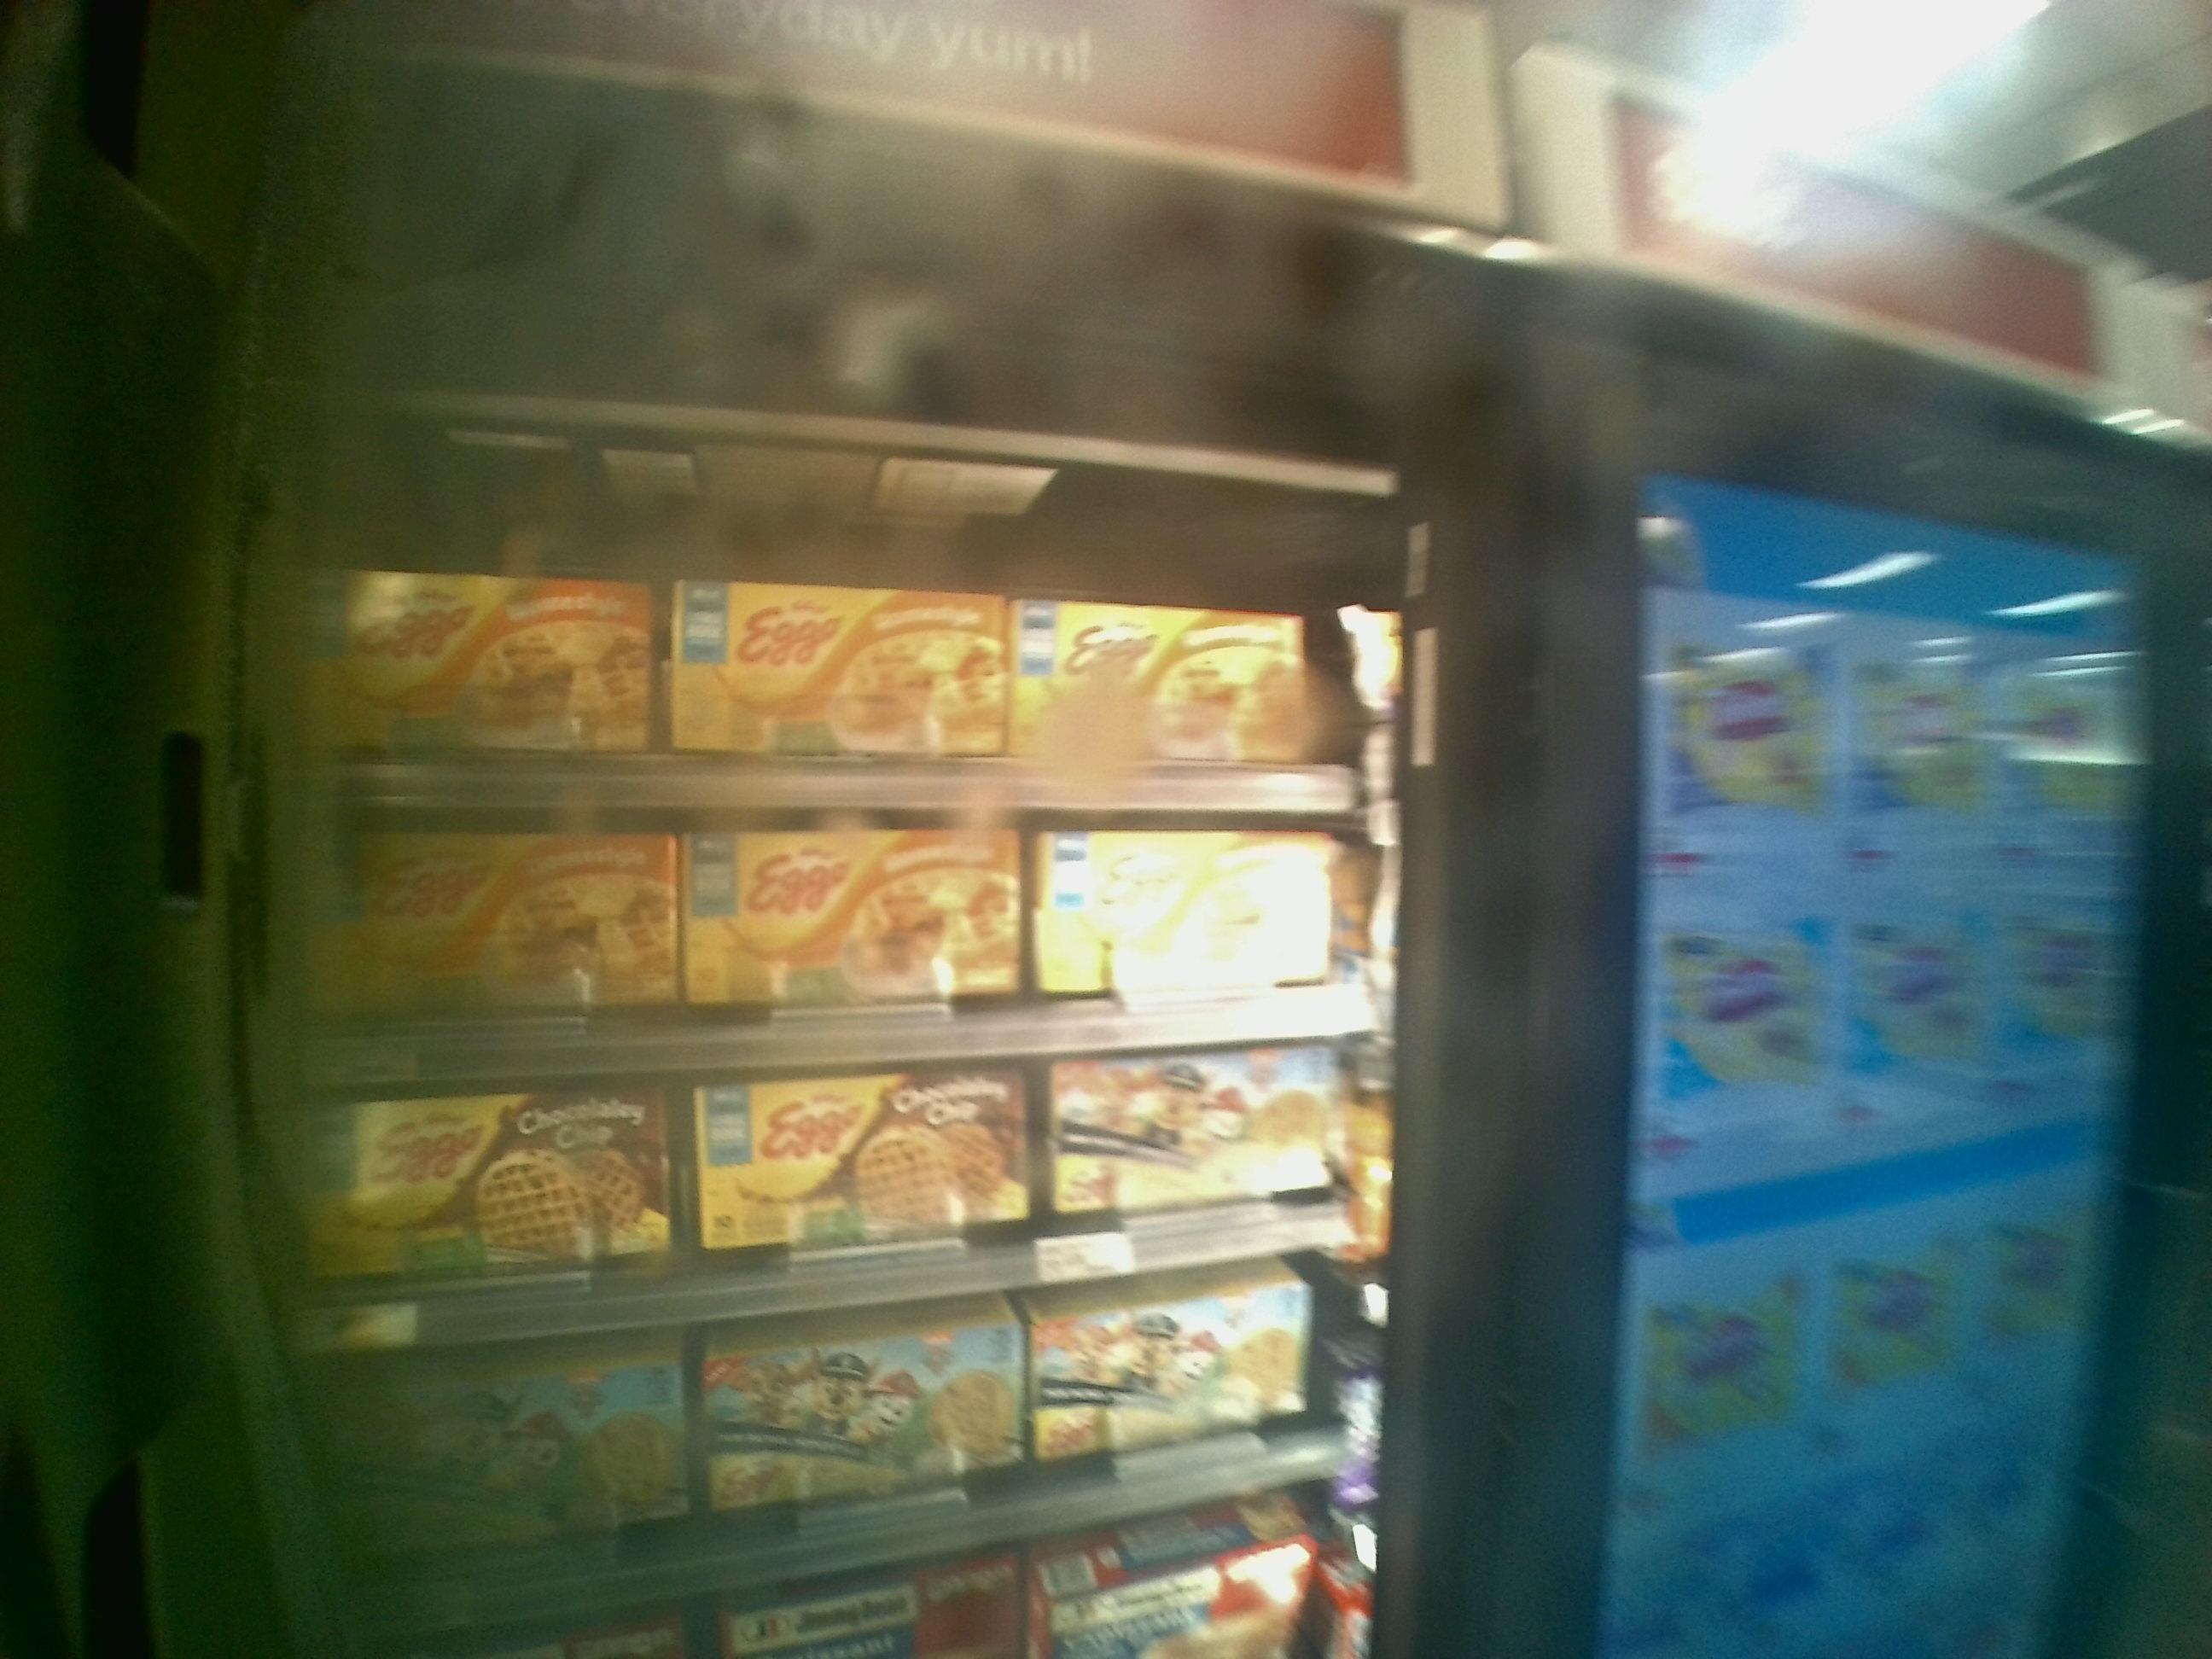shelf: (265, 1028, 1399, 1351), (275, 498, 1404, 817), (270, 809, 1416, 1079)
